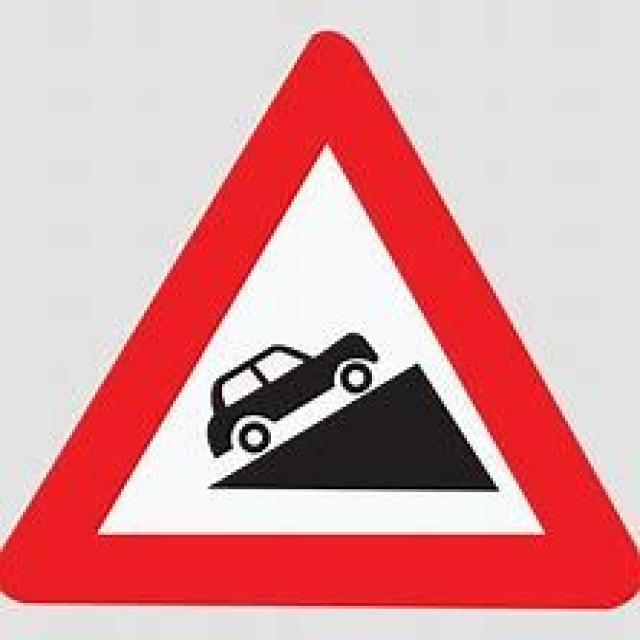speed_limit_70: (0, 28, 637, 606)
